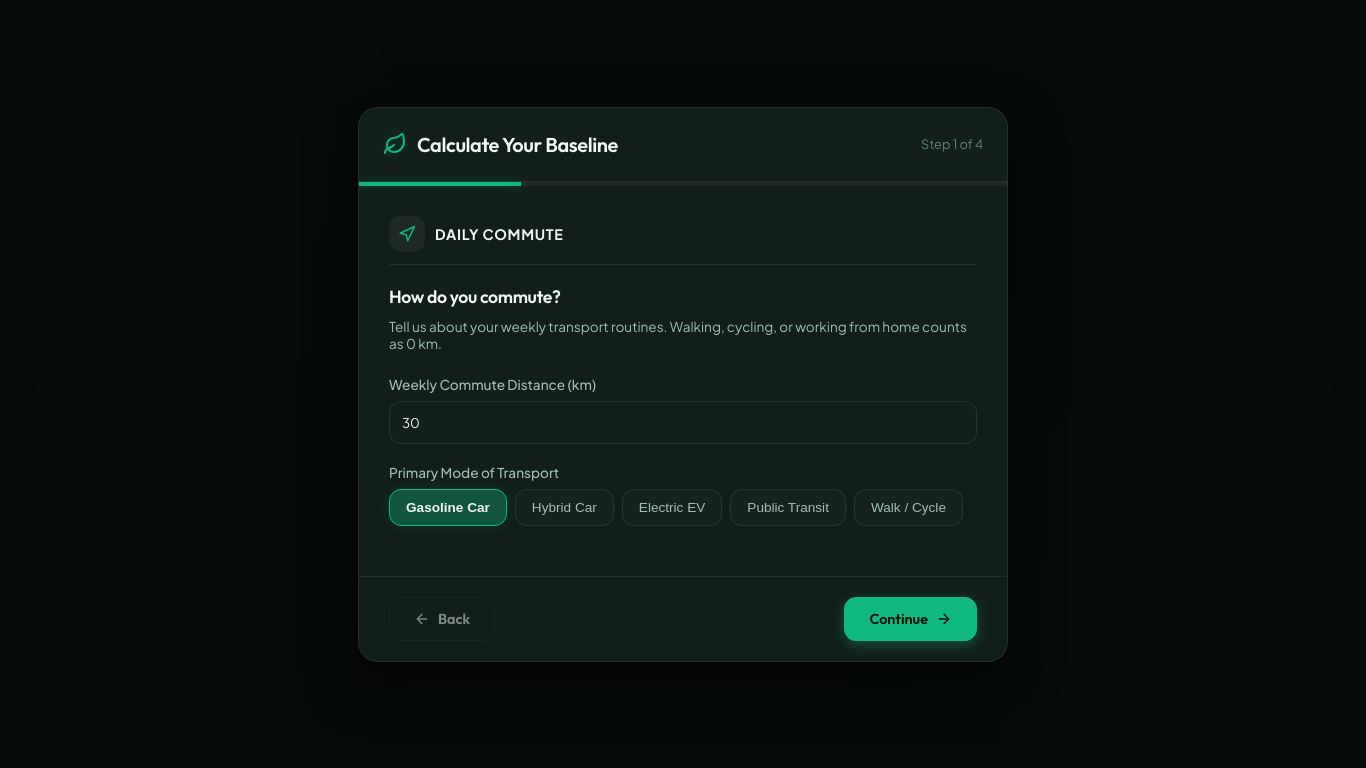
OnboardingWizard › shows validation error when commute distance is empty
The image size is (1366, 768).
Clear the number field labelled "Weekly Commute Distance (km)" at (683, 422), box [389,400,977,444]
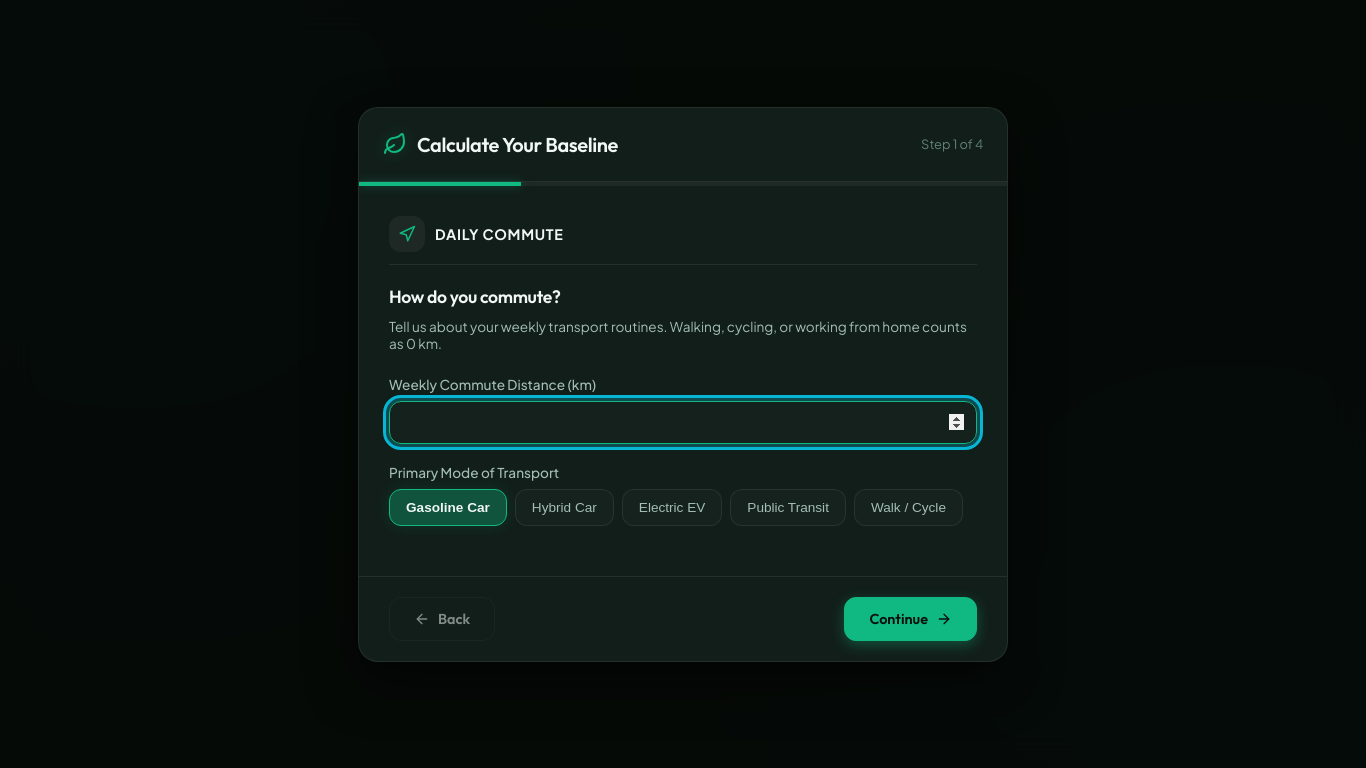
Click the button "Continue" at (911, 618), box [844,596,977,640]
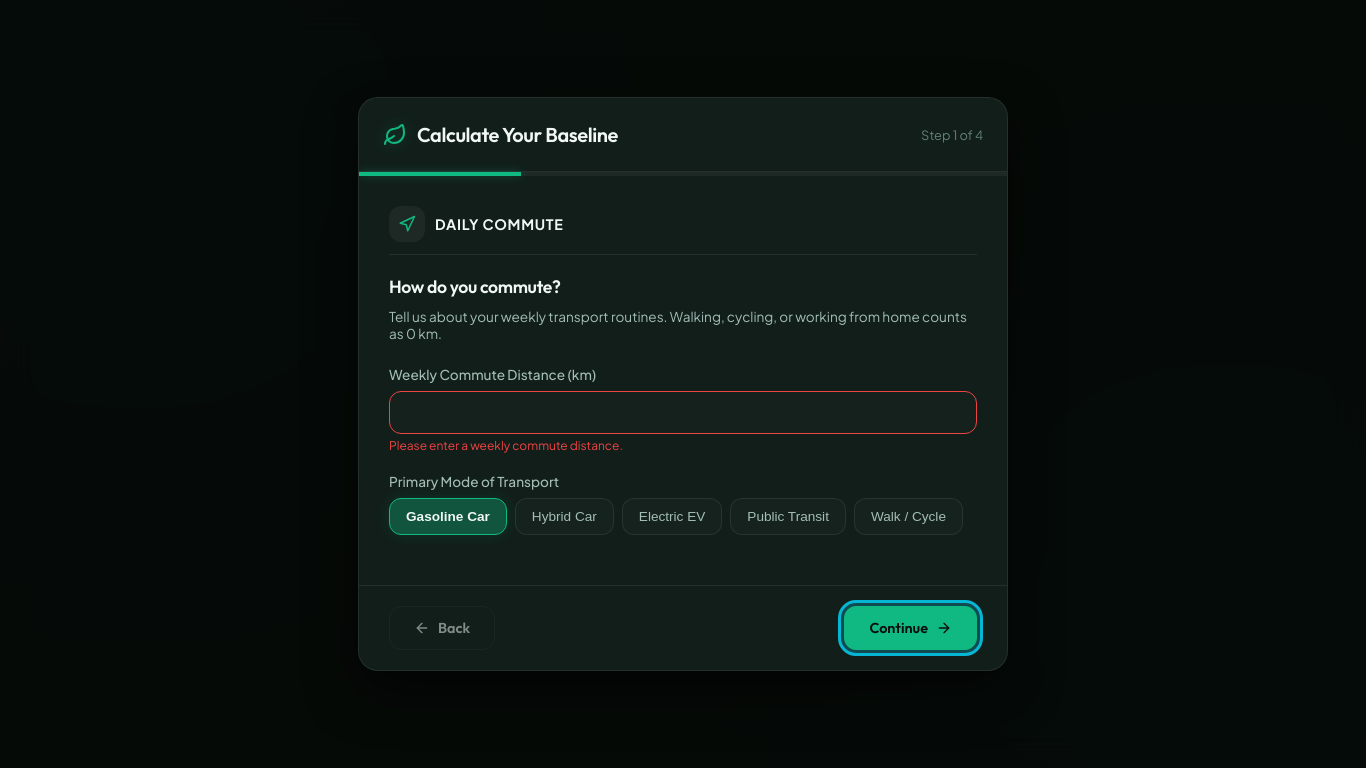
Expected: the text "Please enter a weekly commute distance." is shown, [389,438,623,453]
